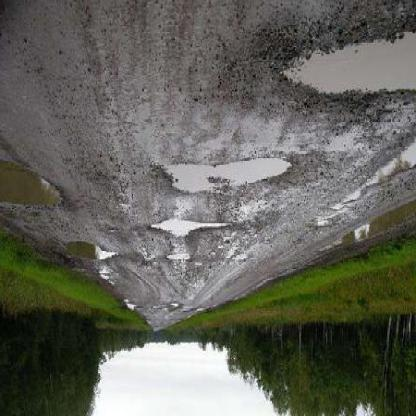pothole: (280, 27, 416, 105), (152, 158, 296, 199), (2, 163, 67, 215), (150, 219, 232, 241), (66, 240, 120, 269), (167, 253, 194, 266), (125, 301, 139, 315)
